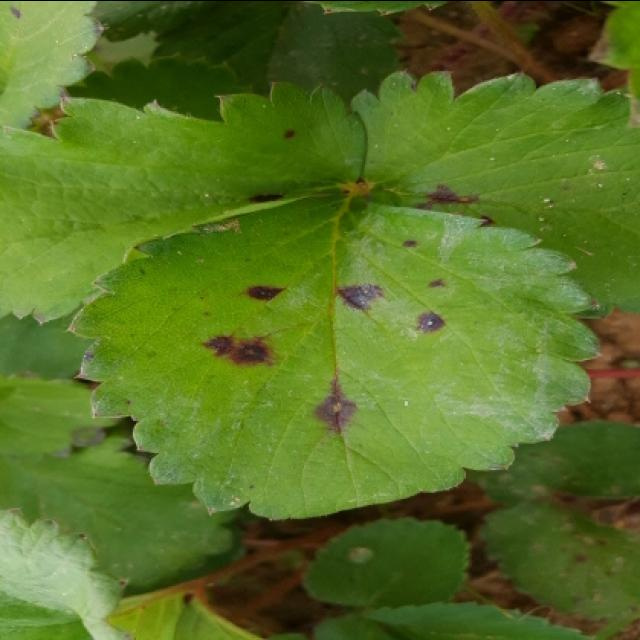Leaf Spot: (66, 185, 603, 520), (0, 77, 367, 325), (350, 68, 638, 319), (477, 495, 638, 621), (0, 2, 104, 136)
